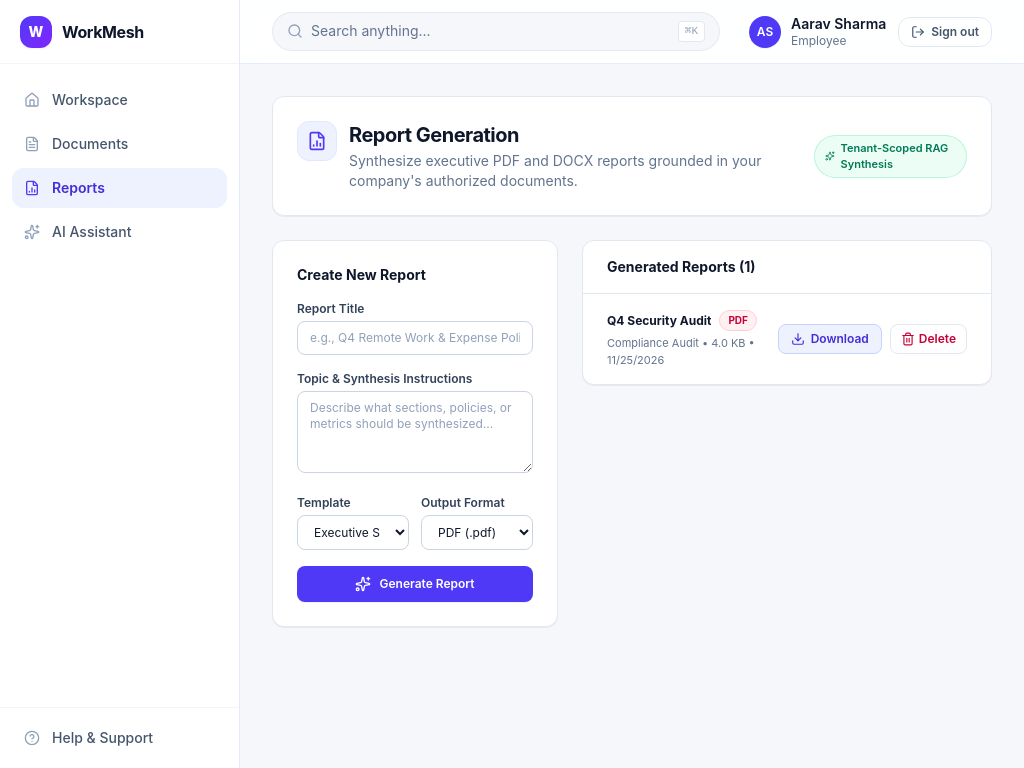
Scenario: ReportsPage › generates a new report and prepends it to the list
Expected: the text "Q4 Security Audit" is shown, top-left (607, 312), bottom-right (711, 328)
Type "HR Leave Brief" into the field labelled "Report Title" at [415, 338], box top-left (297, 321), bottom-right (533, 355)
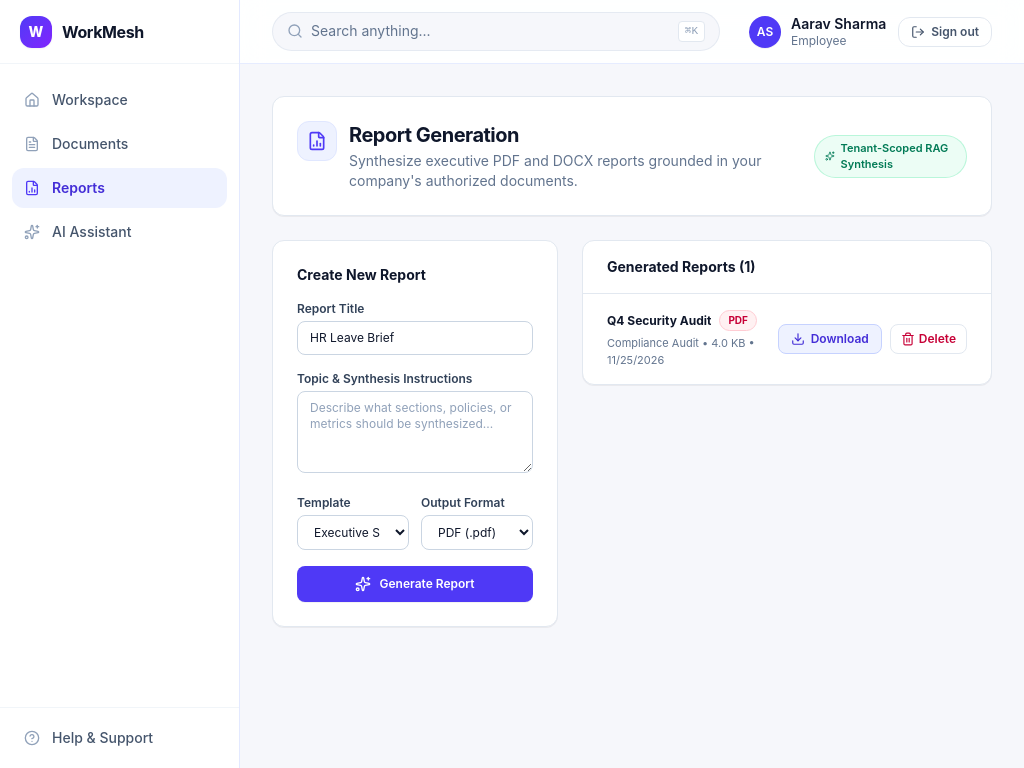
Replace the text in the text box labelled "Topic & Synthesis Instructions" with "Summarize sick leave rules" at [415, 432], box top-left (297, 391), bottom-right (533, 473)
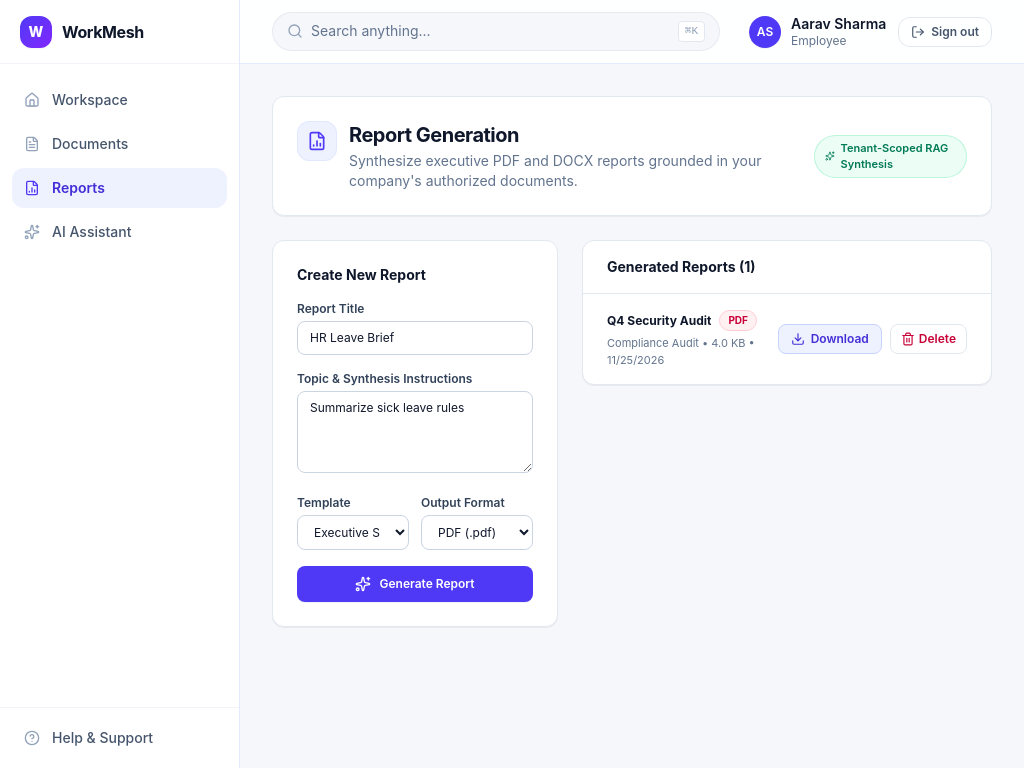
Select "Word (.docx)" in the dropdown labelled "Output Format" at [477, 532], box top-left (421, 515), bottom-right (533, 550)
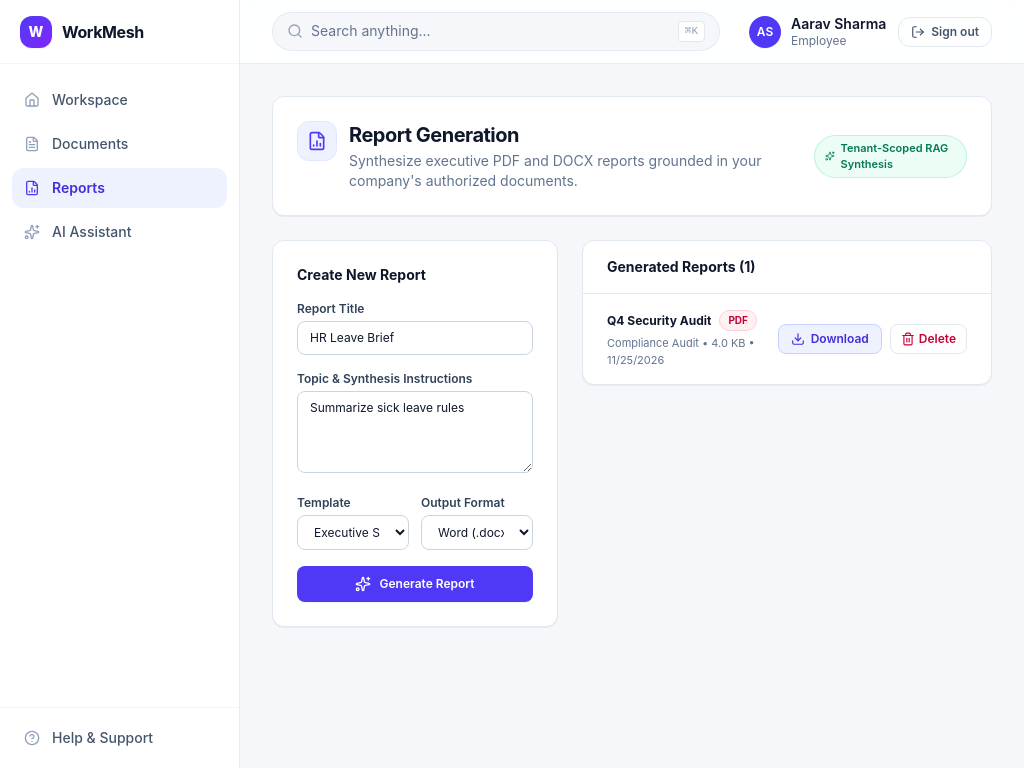
Click the button "Generate Report" at [415, 584], box top-left (297, 566), bottom-right (533, 602)
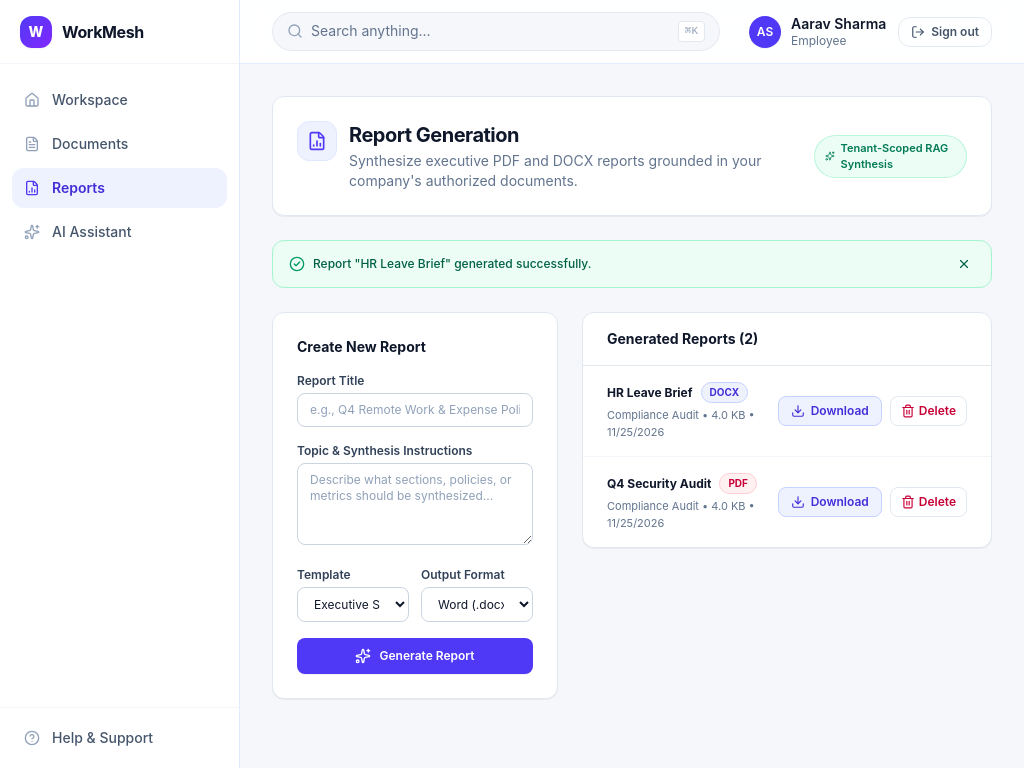
Expected: the text "HR Leave Brief" is shown, top-left (607, 384), bottom-right (692, 400)
Expected: the text "Report \"HR Leave Brief\" generated successfully." is shown, top-left (313, 256), bottom-right (591, 272)
